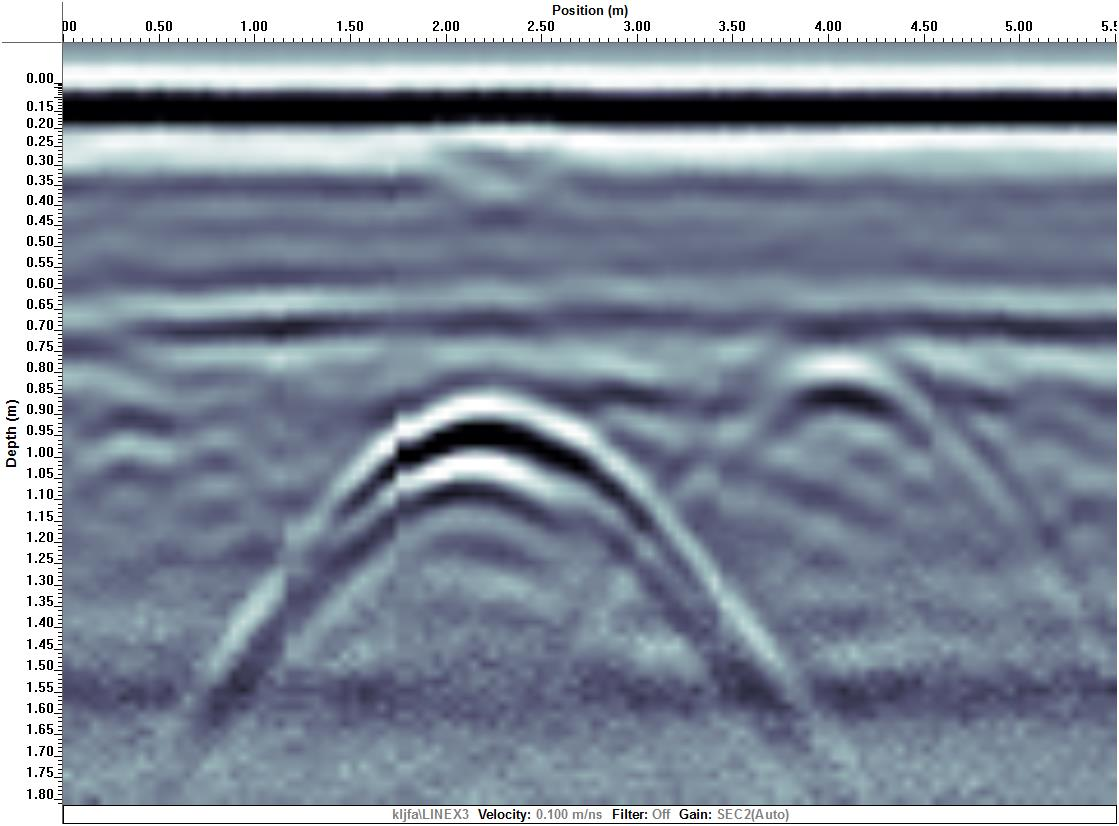hyperbola: (215, 377, 786, 704), (623, 336, 1065, 611)
